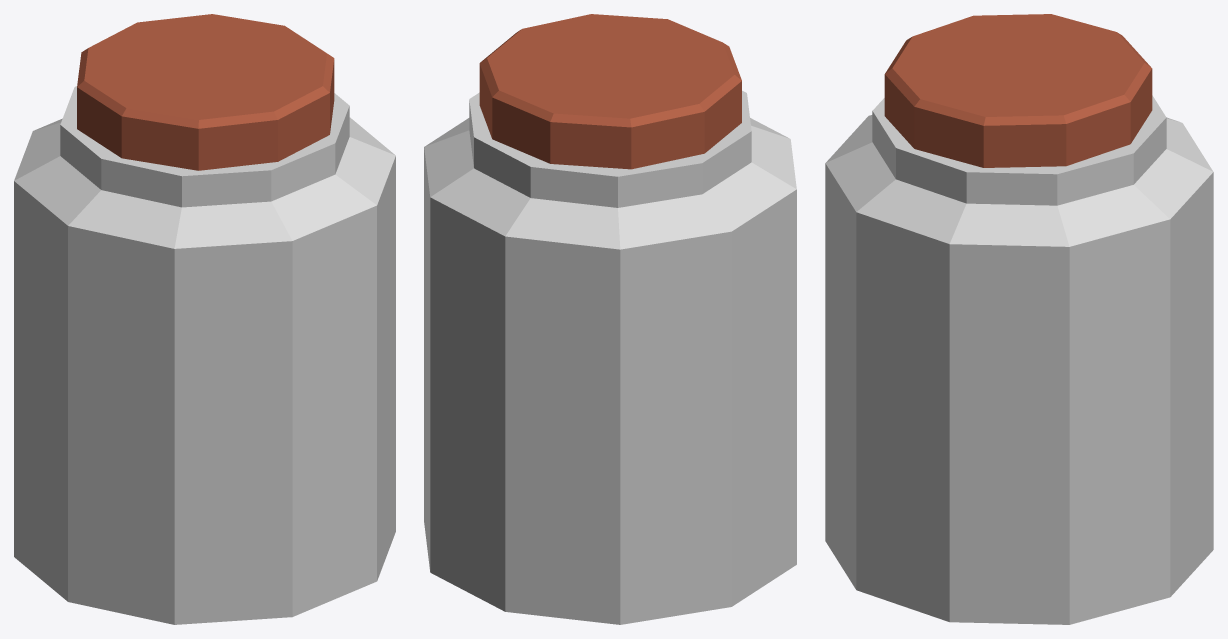
Rendered from Jar_Item.fbx.
The picture shows the model from 3 angles, left to right: view 1: azimuth 30°, elevation 25°; view 2: azimuth 150°, elevation 25°; view 3: azimuth 270°, elevation 25°; orthographic projection.
Visible parts, largest first — view 1: jar.002, jar_cap; view 2: jar.002, jar_cap; view 3: jar.002, jar_cap.
Part boxes in pixels (x1=…): jar.002: x1=14, y1=86, x2=395, y2=624; jar_cap: x1=77, y1=14, x2=334, y2=170; jar.002: x1=424, y1=90, x2=796, y2=624; jar_cap: x1=479, y1=14, x2=741, y2=169; jar.002: x1=825, y1=95, x2=1213, y2=624; jar_cap: x1=884, y1=14, x2=1152, y2=167.
Bounding box in the file's own units: 28.71 × 40.5 × 29.67.
